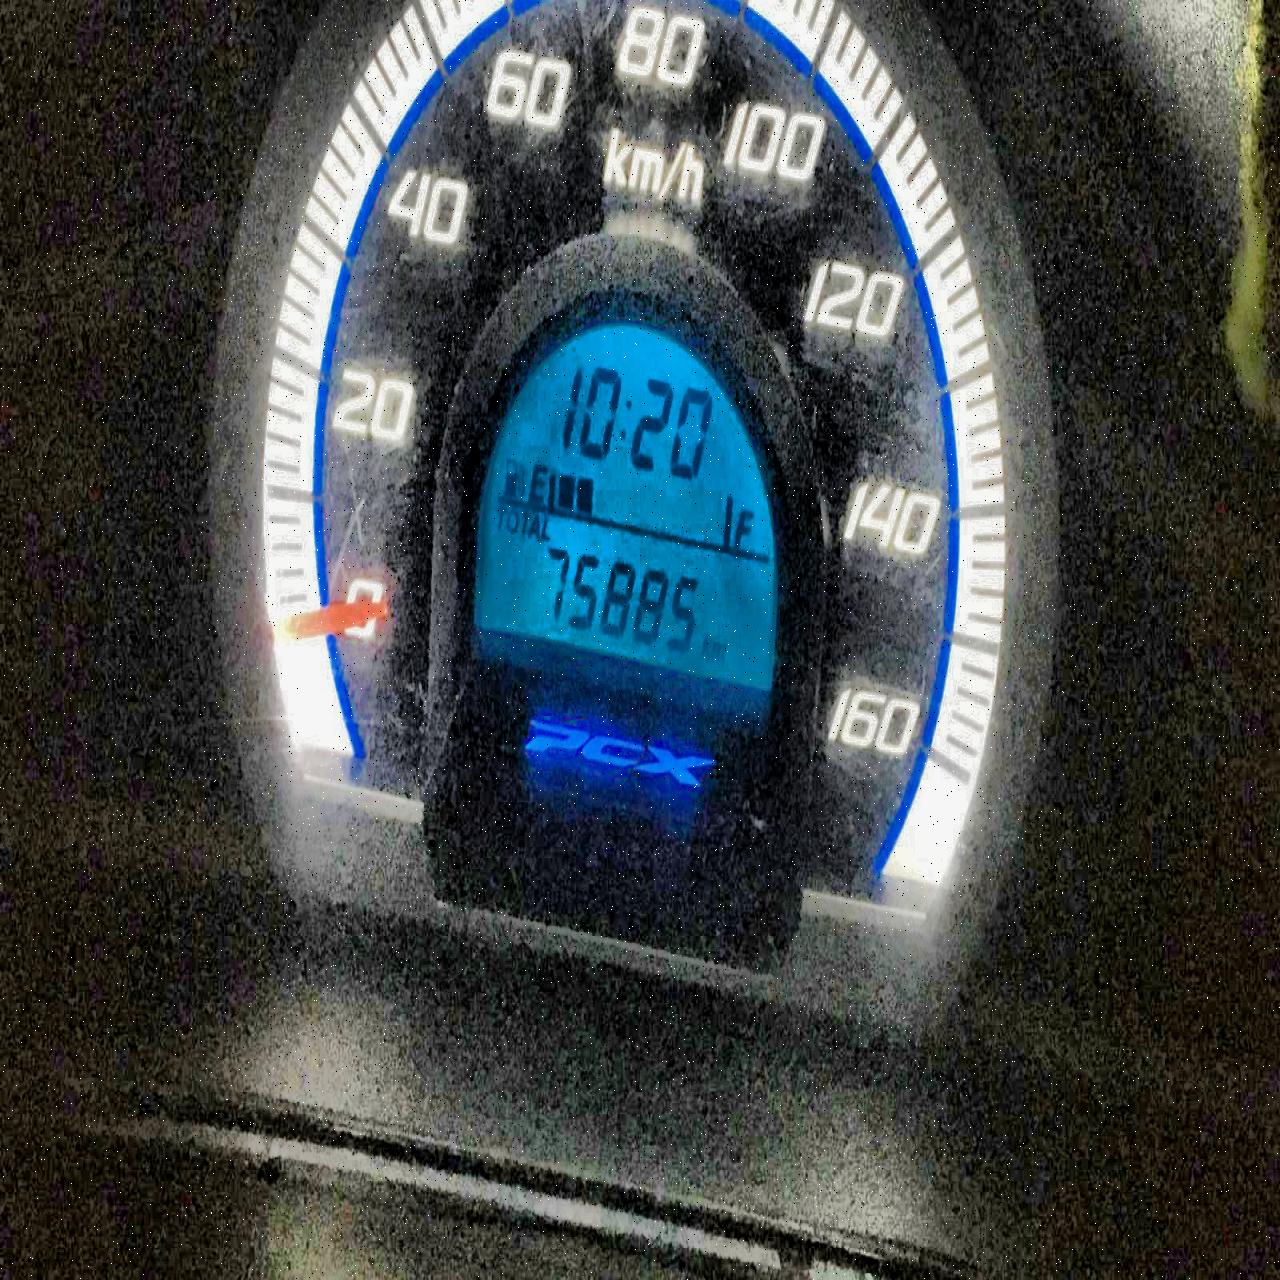0: (672, 382, 712, 479), (581, 363, 620, 462)
1: (560, 363, 583, 452)
2: (631, 375, 670, 476)
5: (668, 568, 699, 658), (570, 549, 598, 632)
7: (546, 543, 568, 621)
8: (604, 550, 633, 651), (635, 565, 669, 651)
X: (527, 459, 547, 502), (734, 504, 753, 545), (621, 394, 632, 442), (505, 508, 517, 535), (713, 639, 726, 662), (539, 512, 550, 540), (519, 509, 529, 537), (529, 511, 538, 539), (701, 634, 712, 659), (496, 504, 505, 531)
odometer: (472, 305, 785, 697)
